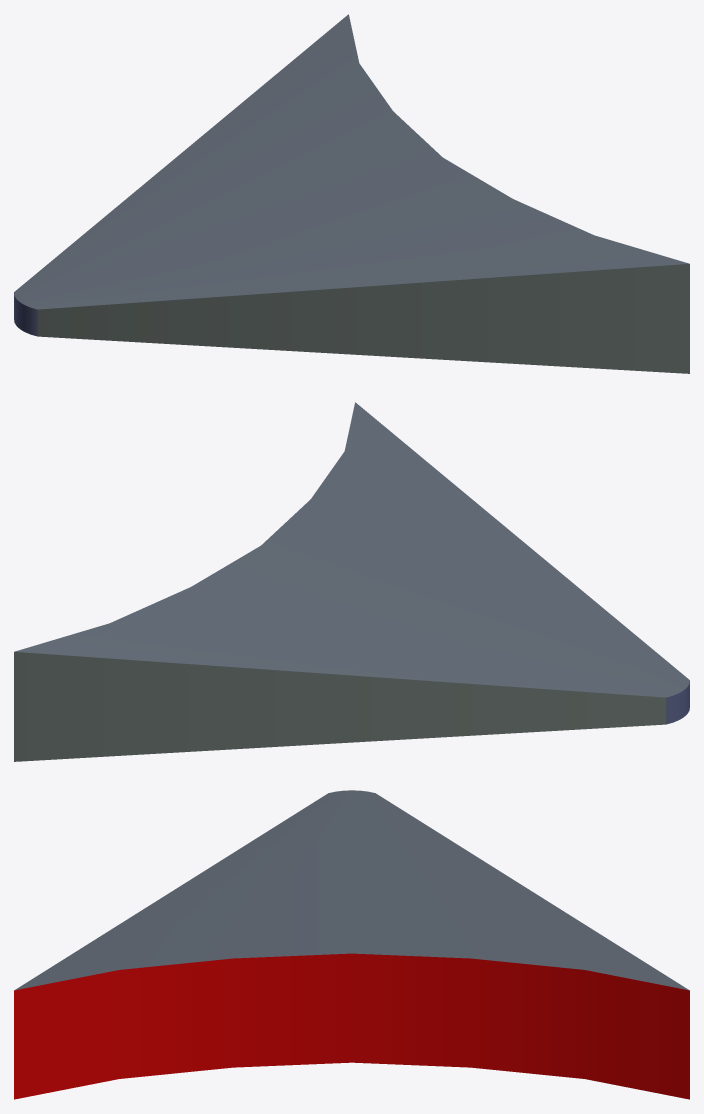
File: small_arrow_teleport_02.fbx
3 renders of one model, top to bottom at view 1: azimuth 30°, elevation 25°; view 2: azimuth 150°, elevation 25°; view 3: azimuth 270°, elevation 25°, orthographic.
Visible parts, largest first — view 1: Arrow_s_teleport; view 2: Arrow_s_teleport; view 3: Arrow_s_teleport.
Boxes of the visible parts, x1=… form: Arrow_s_teleport: x1=14, y1=14, x2=689, y2=373; Arrow_s_teleport: x1=14, y1=402, x2=689, y2=761; Arrow_s_teleport: x1=14, y1=790, x2=689, y2=1099.
Bounding box in the file's own units: 19.55 × 4.12 × 23.14.
